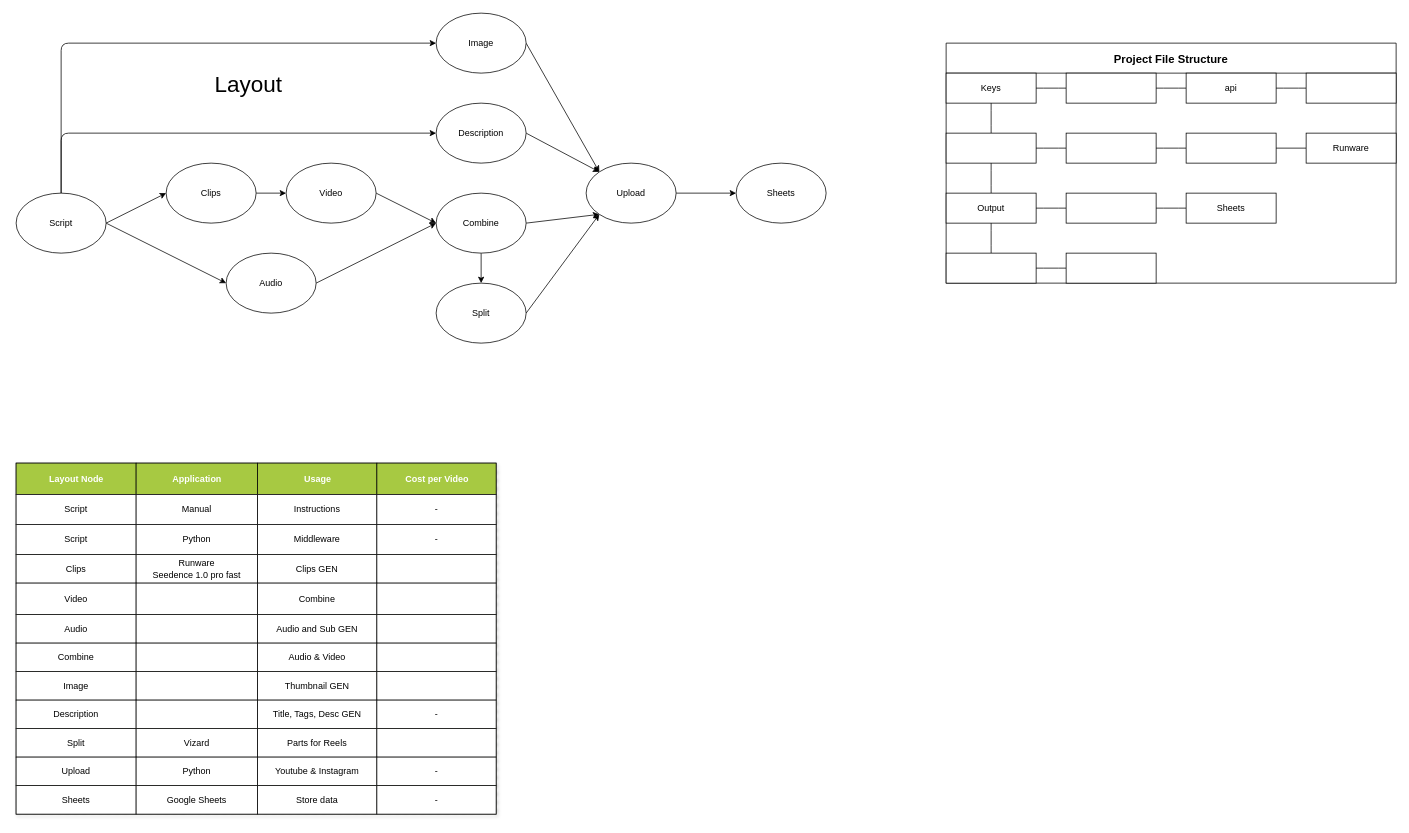
This 1409x833 diagram has some shape labels left out. The centre of each missing label's shape, as x and y in pixels:
basic data: the point at 1350,87
client secret: the point at 1110,87
Files: the point at 1110,207
Main: the point at 990,267
Open API: the point at 1230,147
Scripts: the point at 1110,267
Utilities: the point at 990,147
Youtube: the point at 1110,147
